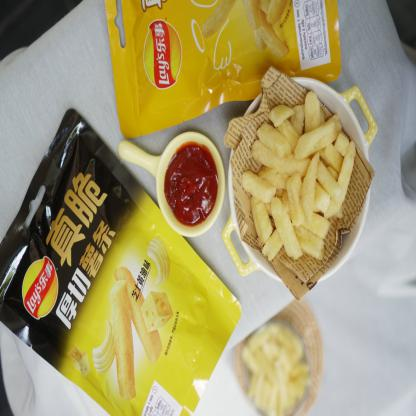potatochip: (0, 96, 246, 415), (101, 0, 348, 149)
